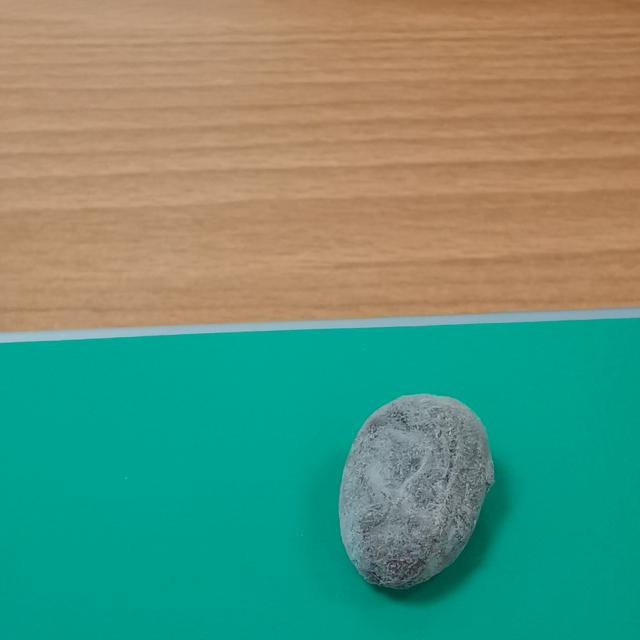Fine_cocoabeans: (221, 350, 567, 624)
